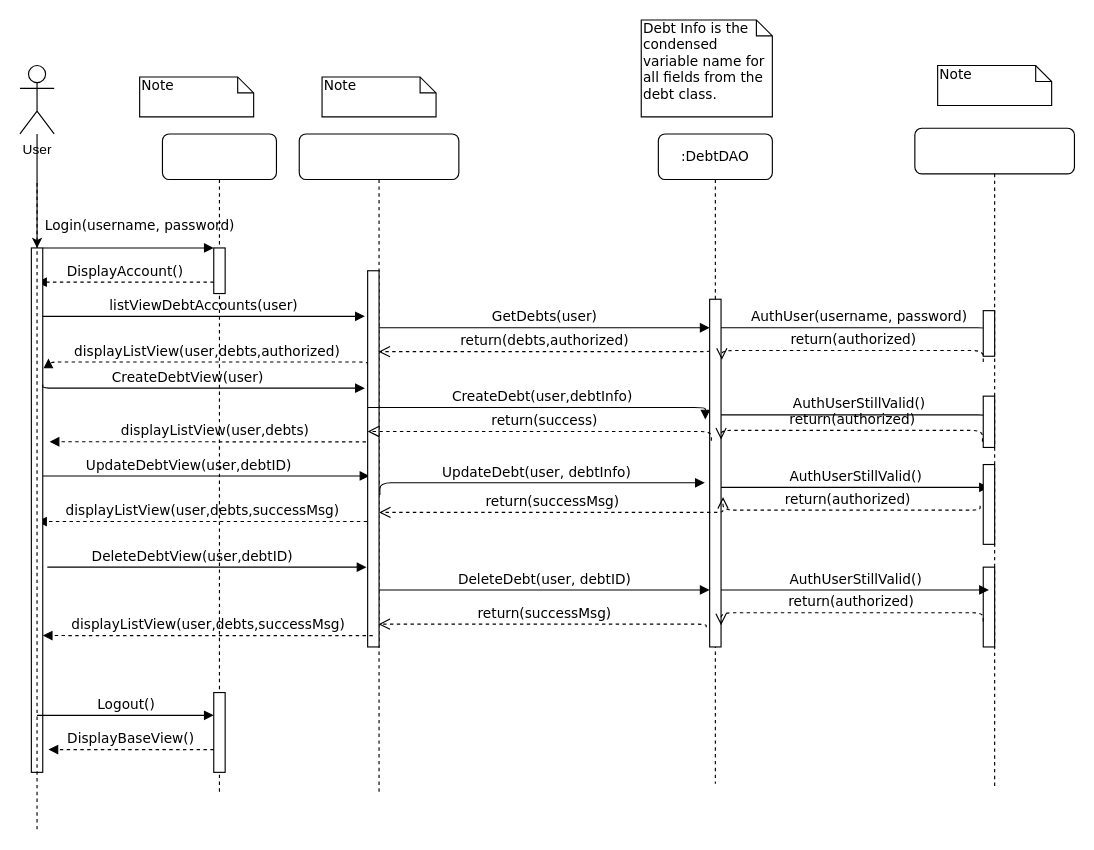
The diagram is 1094 pixels wide and 850 high, and some of its shapes have lost their labels. The shapes that lost their labels are listed below. From the top down, each one's centre as x and y in pixels, then its label:
pixel 218 464: :Homepage
pixel 378 464: :DebtAccountManager
pixel 994 458: :UserAuth
